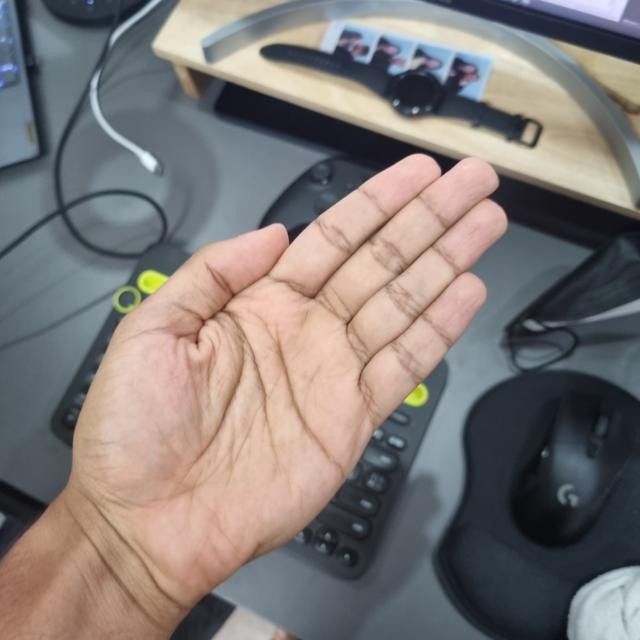Paper: (71, 229, 386, 579)
